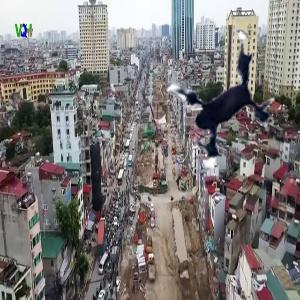drone: (131, 16, 299, 184)
